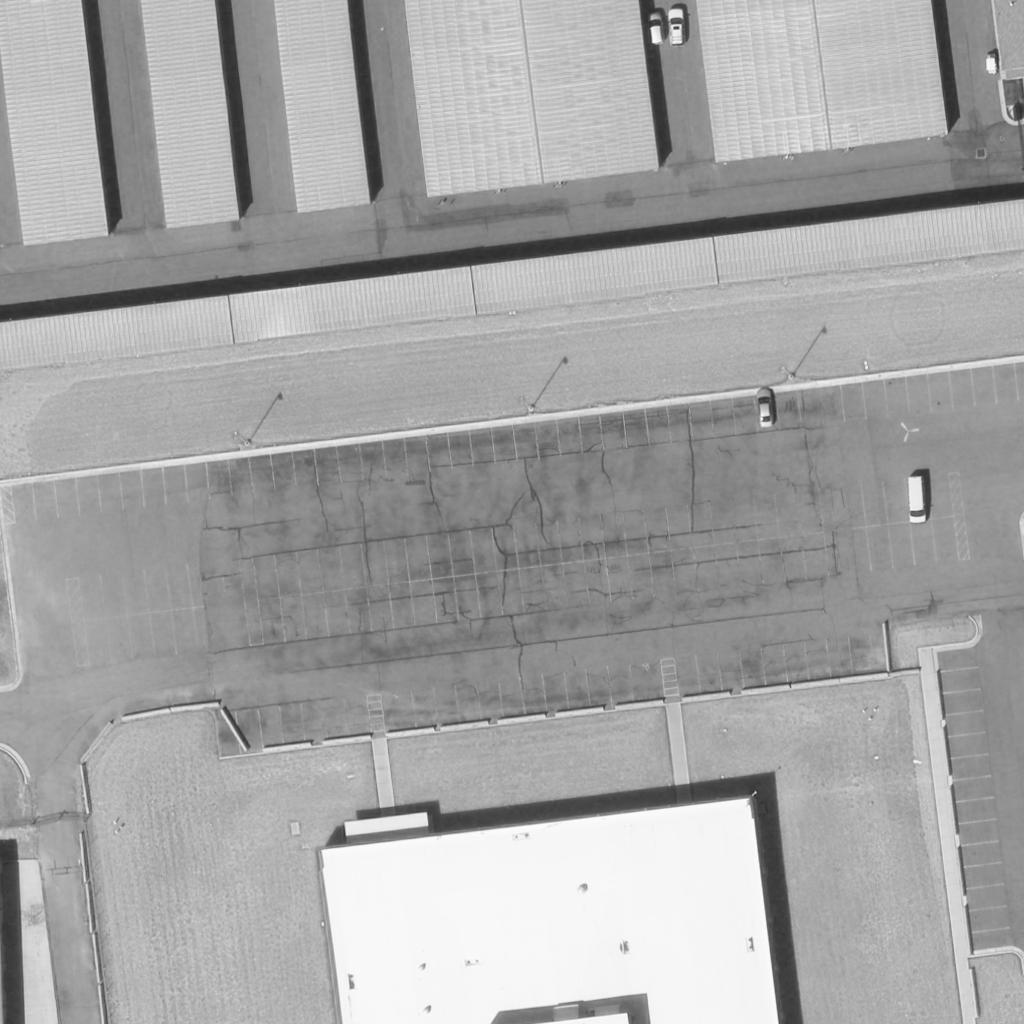vehicle: (907, 478, 929, 524), (644, 9, 666, 45), (754, 391, 776, 427), (668, 9, 688, 47)
